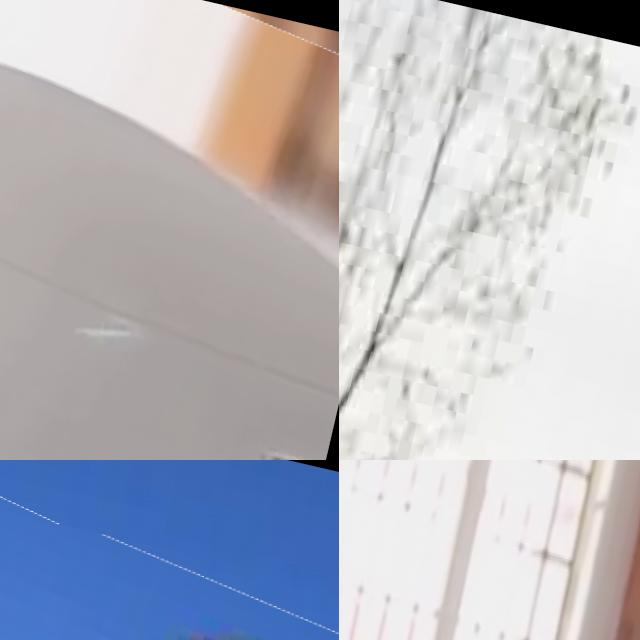drone: (0, 0, 339, 460), (0, 478, 339, 640)
